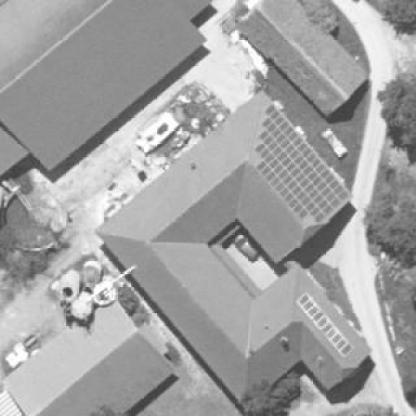solar-pv-panel: (254, 104, 349, 223), (297, 293, 354, 356)
